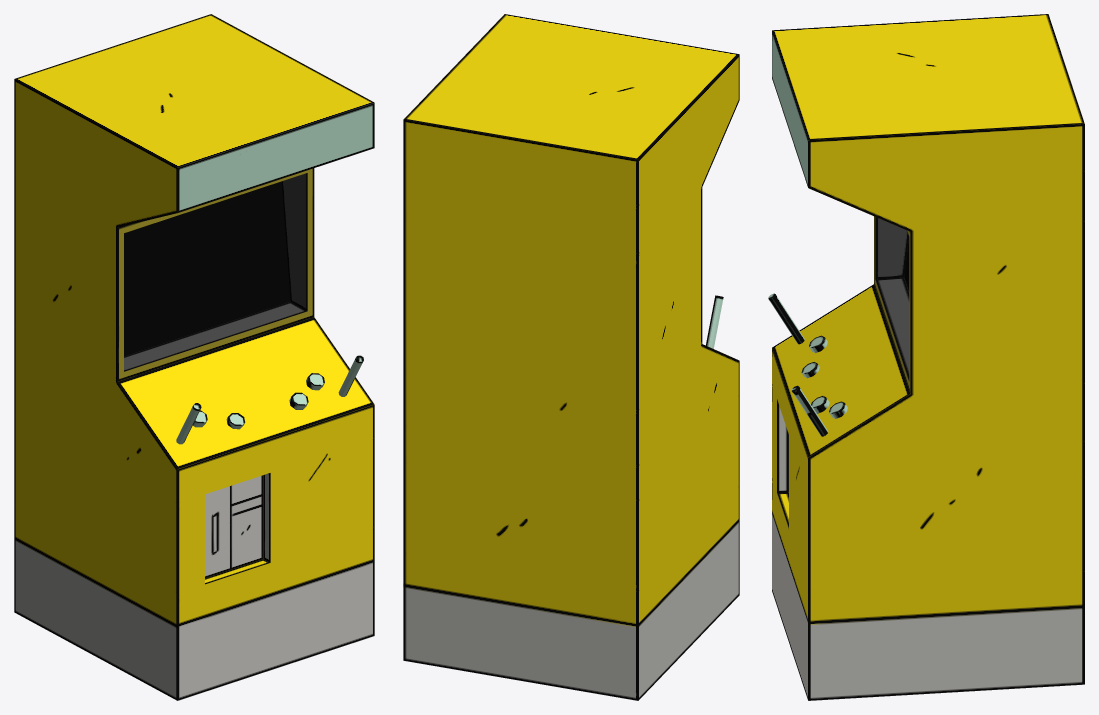
File: ArcadeMachine.obj
The picture shows the model from 3 angles, left to right: view 1: azimuth 30°, elevation 25°; view 2: azimuth 150°, elevation 25°; view 3: azimuth 270°, elevation 25°; orthographic projection. The views are drawn at different scales.
Parts seen in each view (by area): view 1: Arcade_Machine; view 2: Arcade_Machine; view 3: Arcade_Machine.
Boxes of the visible parts, box(x1,y1,x2,y2) form: Arcade_Machine: box(14, 14, 374, 700); Arcade_Machine: box(403, 14, 739, 700); Arcade_Machine: box(768, 14, 1084, 700).
Size of the model in its own units: 367 by 759 by 389.
